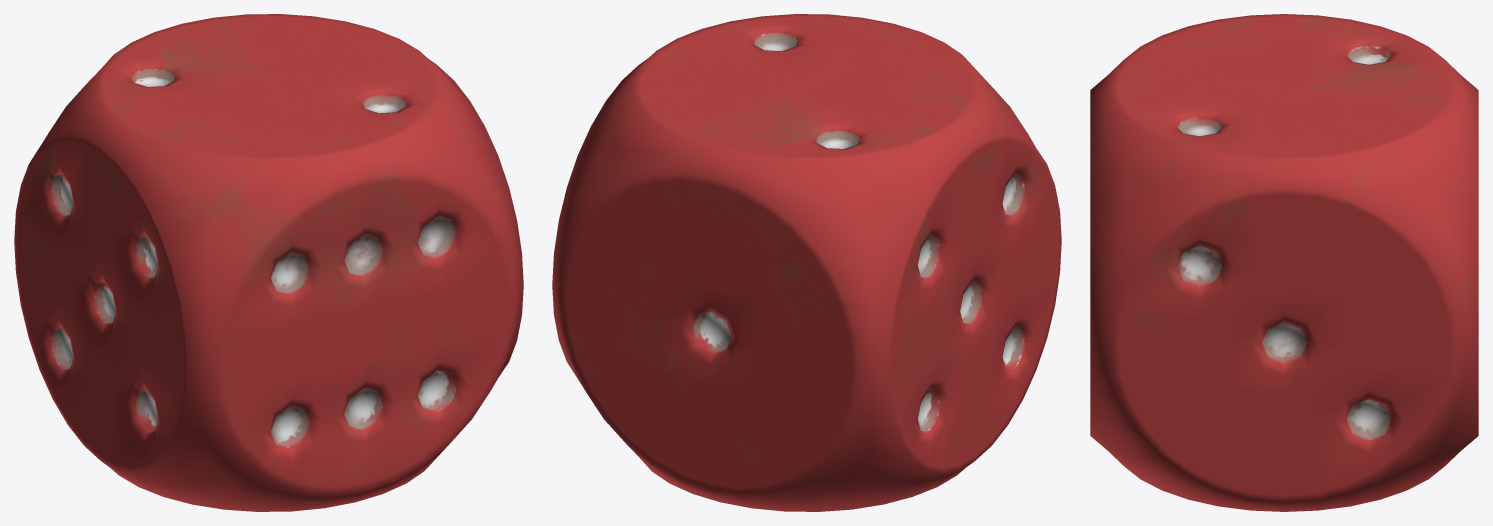
File: diceCollada.dae
3 renders of one model, left to right at view 1: azimuth 30°, elevation 25°; view 2: azimuth 150°, elevation 25°; view 3: azimuth 270°, elevation 25°, orthographic.
Parts seen in each view (by area): view 1: Dice; view 2: Dice; view 3: Dice.
Boxes of the visible parts, box(x1,y1,x2,y2) form: Dice: box(14, 14, 523, 511); Dice: box(552, 14, 1061, 511); Dice: box(1090, 14, 1478, 511).
Size of the model in its own units: 0.01 by 0.01 by 0.01.
Materials: 1 (1 with a texture image).
